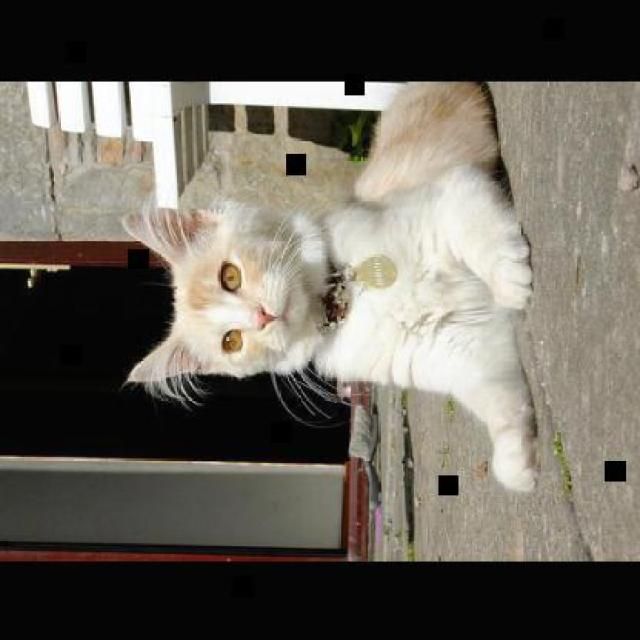unauthorized: (117, 80, 538, 494)
